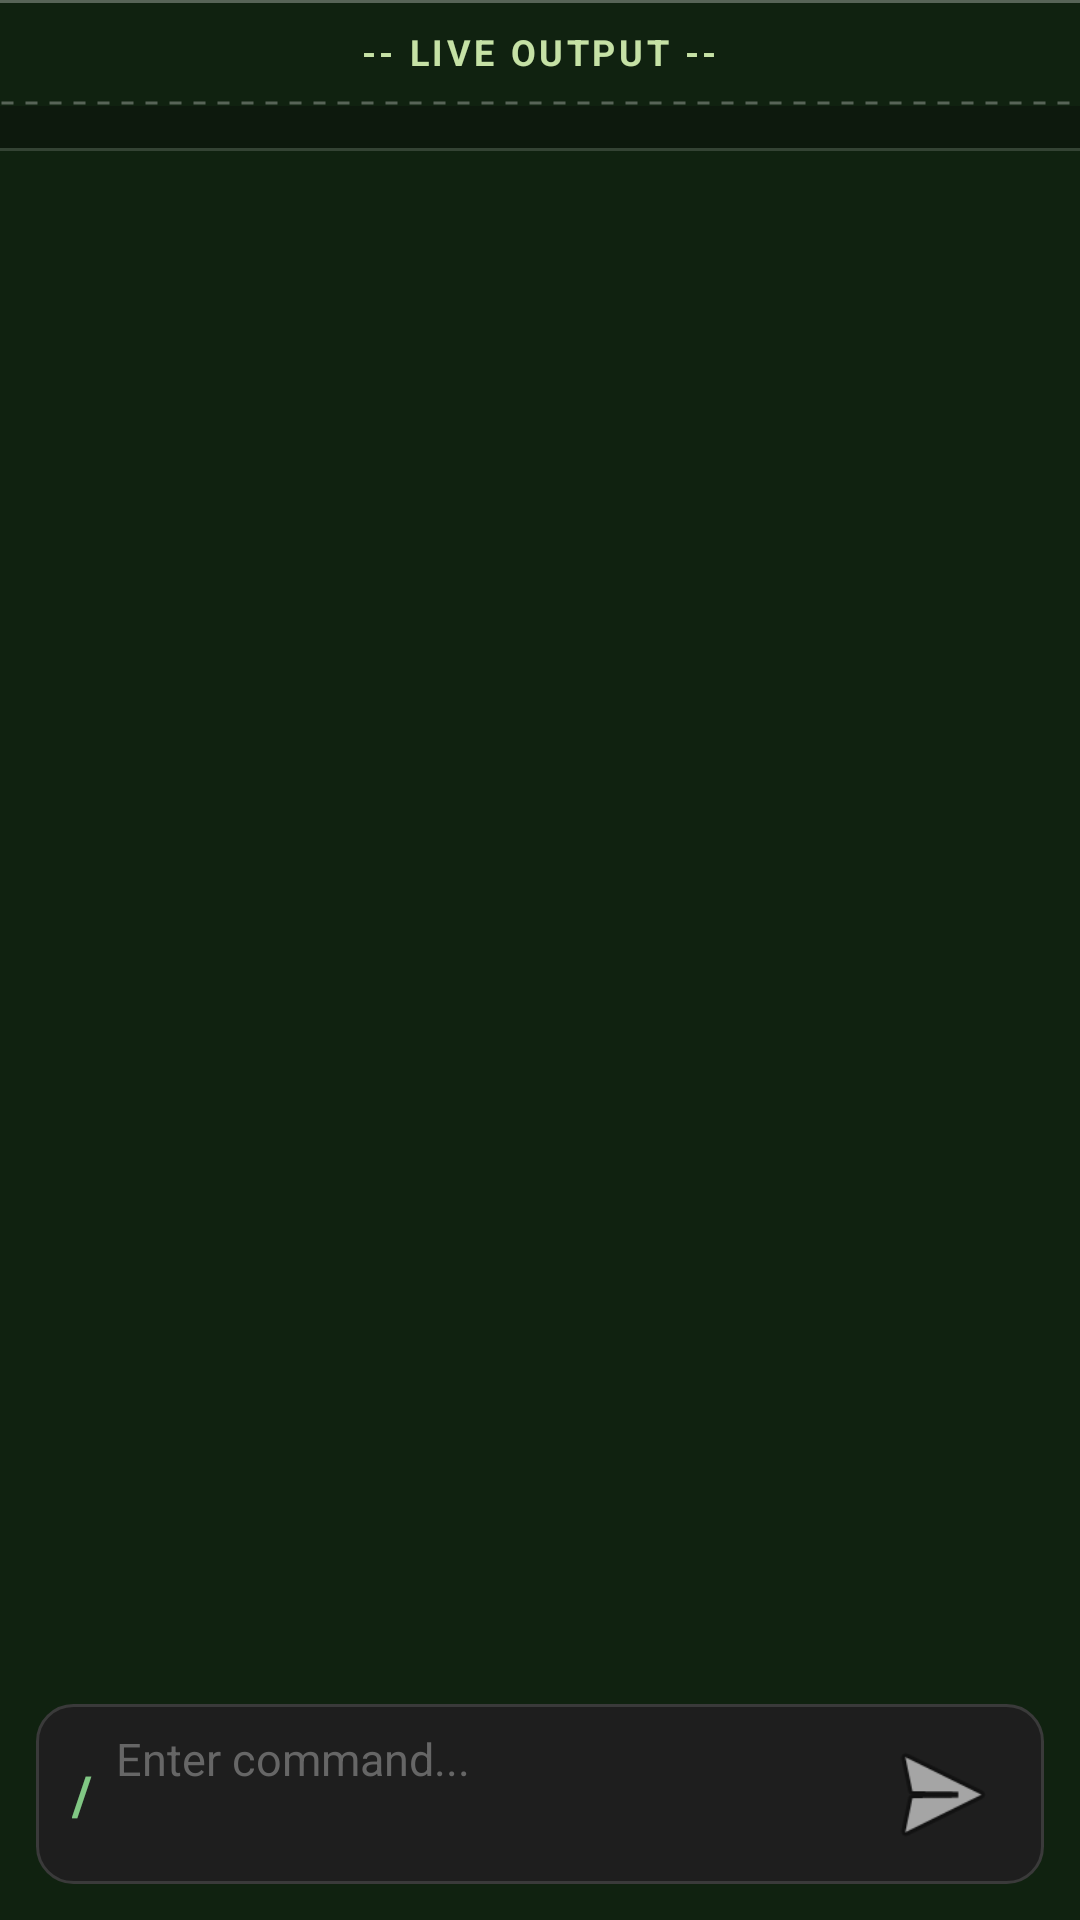

Screen size 1080w x 1920h. Icon name, then its box in pixels as (x1, y1, x2, y2):
Send command: (905, 1757, 981, 1832)
